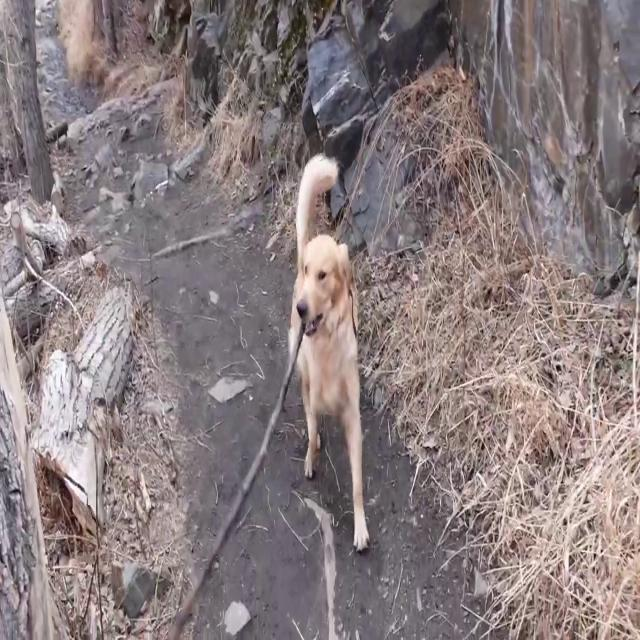Dog: (289, 154, 370, 552)
